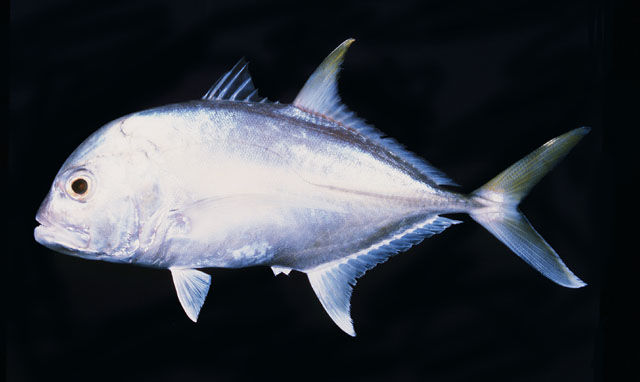fish: (34, 39, 591, 338)
